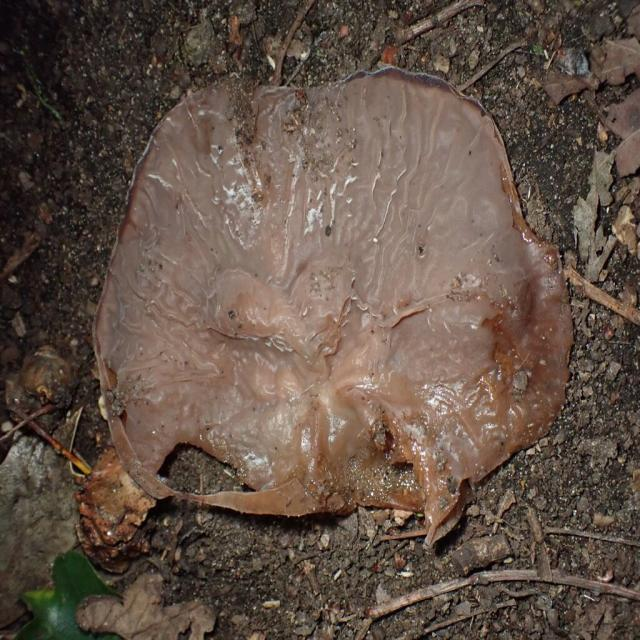Matang: (88, 62, 578, 556)
